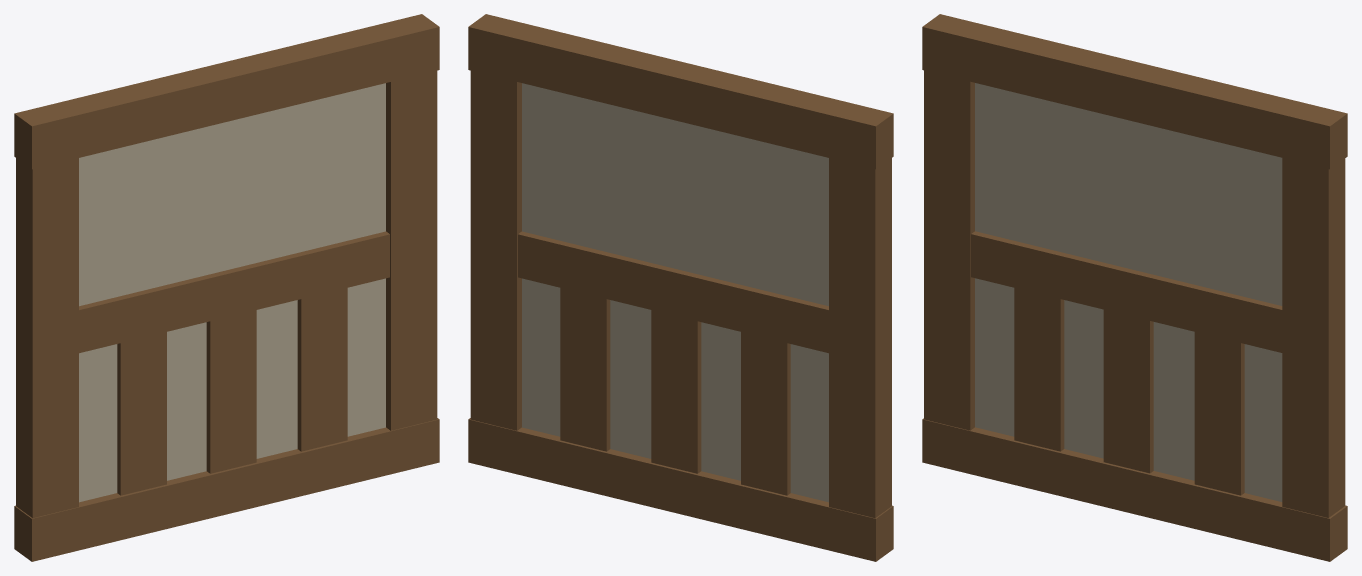
3 views of the same model, side by side, from view 1: azimuth 30°, elevation 25°; view 2: azimuth 150°, elevation 25°; view 3: azimuth 330°, elevation 25° (orthographic).
Visible parts, largest first — view 1: Cube.017; view 2: Cube.017; view 3: Cube.017.
Part boxes in pixels (<box>): Cube.017: <box>14,14,439,561</box>; Cube.017: <box>468,14,893,561</box>; Cube.017: <box>922,14,1347,561</box>.
Bounding box in the file's own units: 207 × 212 × 15.54.
